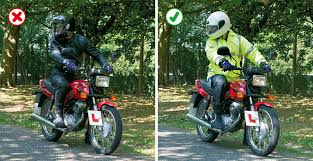helmet: (51, 15, 77, 42), (205, 10, 230, 37)
